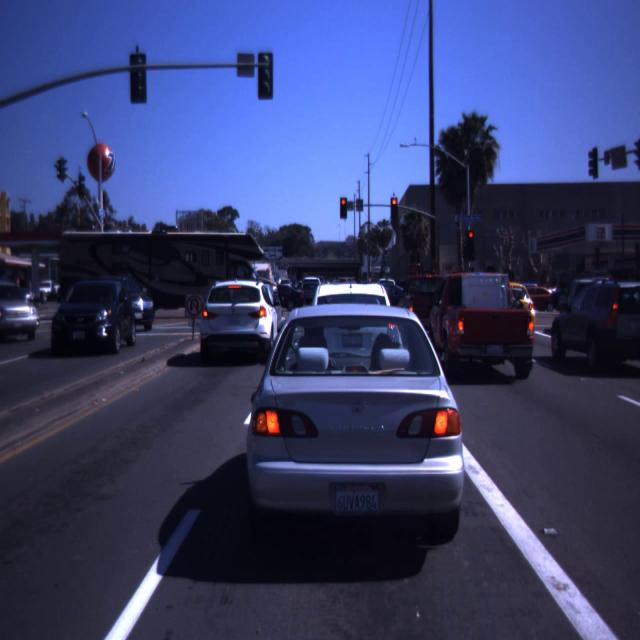stop: (390, 198, 398, 216), (468, 232, 474, 244)
stop left: (337, 197, 351, 217)
stop left traffic light: (337, 197, 351, 217)
stop traffic light: (390, 198, 398, 216), (468, 232, 474, 244)
